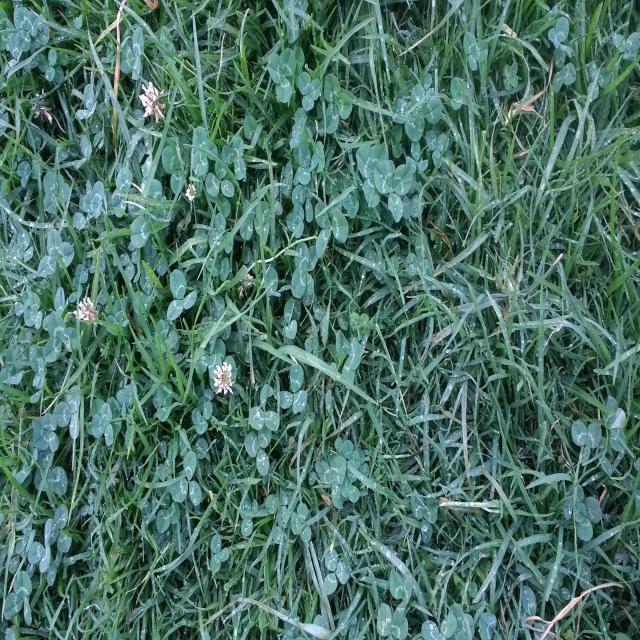Four Leaf Clover: (291, 241, 319, 298)
